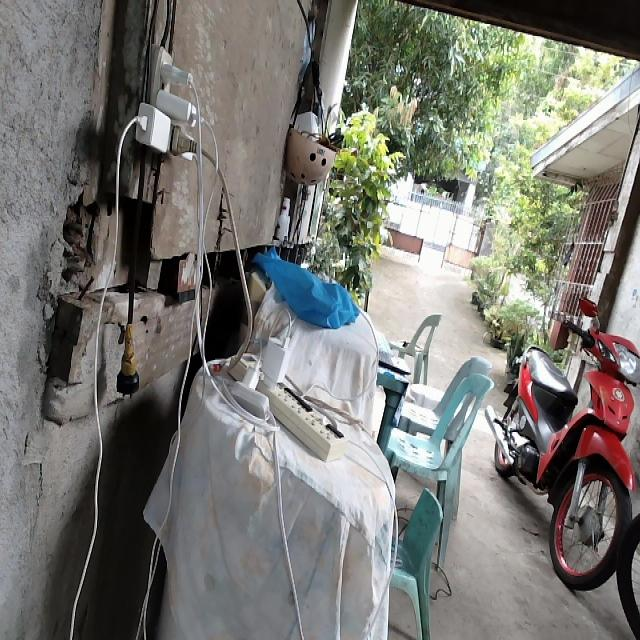-: (127, 41, 204, 160)
